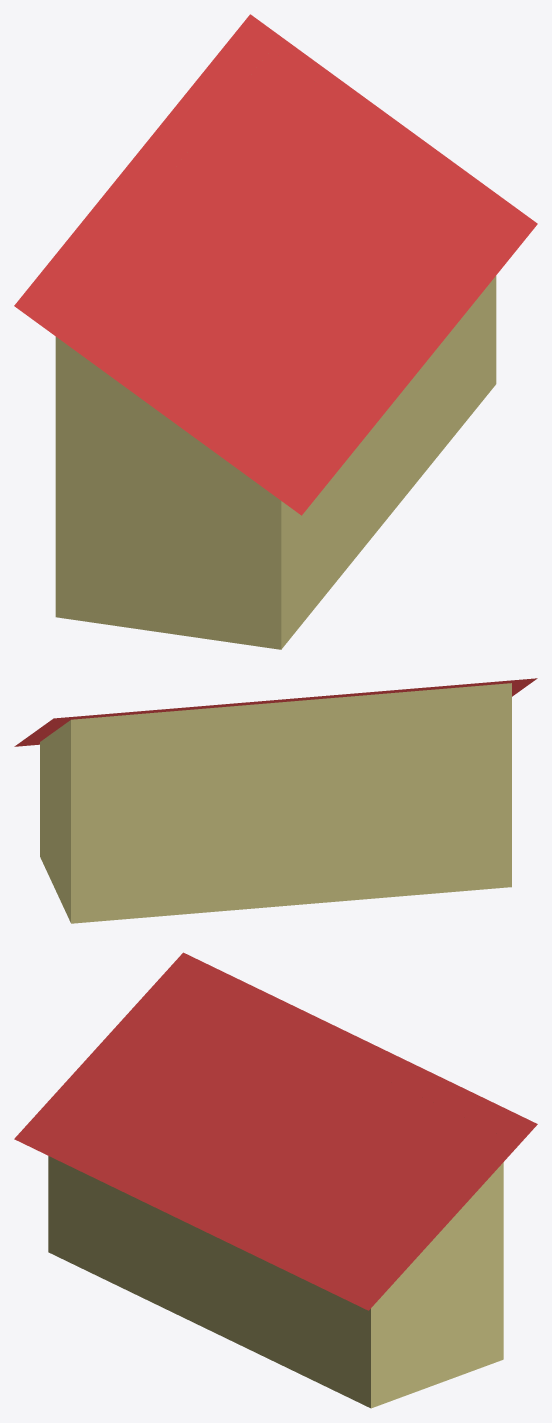
3 views of the same model, one above another, from view 1: azimuth 30°, elevation 25°; view 2: azimuth 150°, elevation 25°; view 3: azimuth 270°, elevation 25° (orthographic). The views are drawn at different scales.
Bounding box in the file's own units: 34.2 × 32.34 × 16.1.
